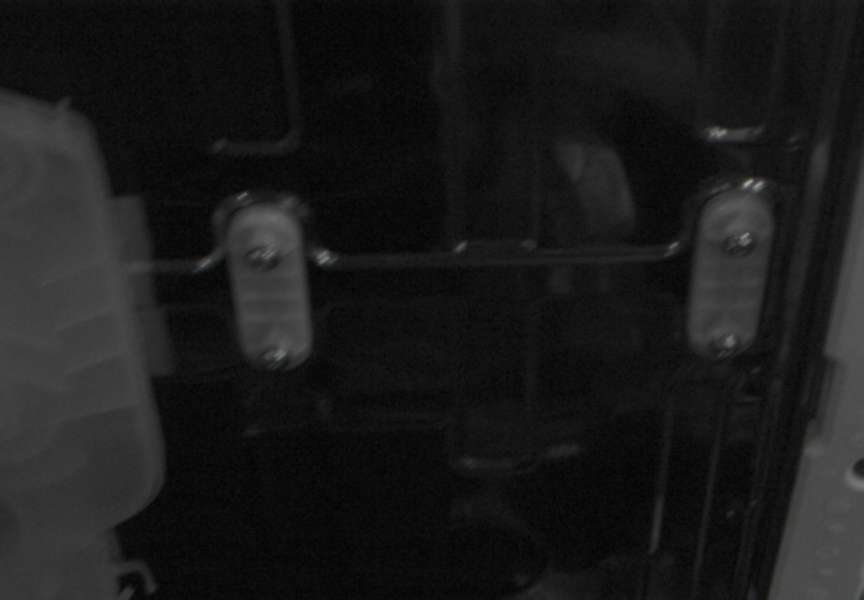screw: (245, 245, 282, 271), (723, 231, 757, 256), (257, 347, 292, 370), (711, 333, 741, 359)
